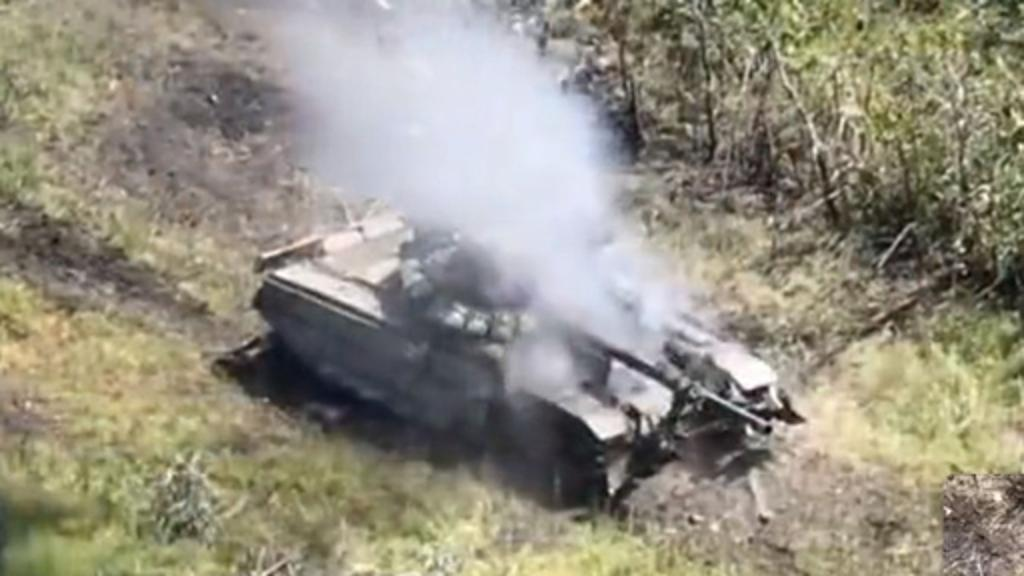TANK: (248, 188, 790, 516)
